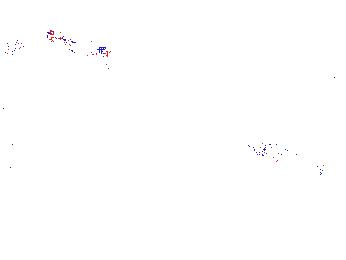X-ray fish: (310, 74, 346, 106), (257, 143, 284, 165)
glassfish: (238, 130, 330, 185)
redtail glassfish: (50, 33, 116, 64), (8, 52, 48, 79), (59, 78, 84, 107)
